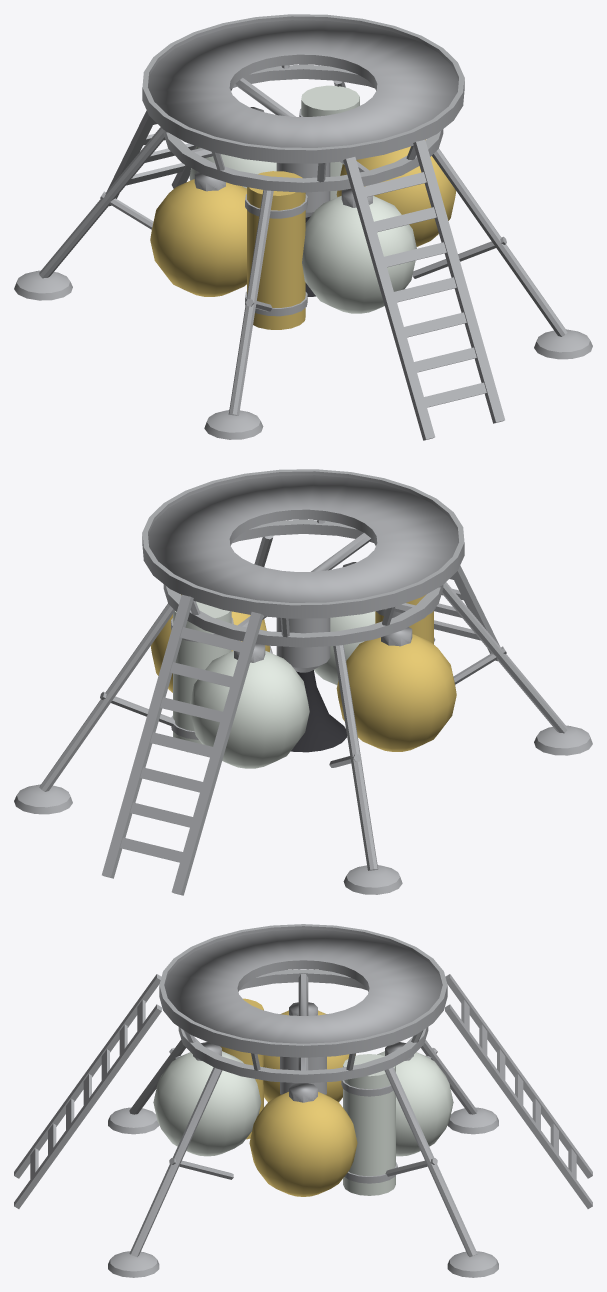
The model's file is Luna17_KT.fbx.
3 views of the same model, one above another, from view 1: azimuth 30°, elevation 25°; view 2: azimuth 150°, elevation 25°; view 3: azimuth 270°, elevation 25° (orthographic). The views are drawn at different scales.
Visible parts, largest first — view 1: Luna17_KT; view 2: Luna17_KT; view 3: Luna17_KT.
Part boxes in pixels (x1=…): Luna17_KT: x1=14, y1=14, x2=592, y2=440; Luna17_KT: x1=14, y1=469, x2=592, y2=895; Luna17_KT: x1=14, y1=924, x2=592, y2=1277.
Size of the model in its own units: 3.27 by 1.93 by 4.82.
